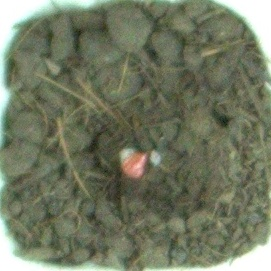chilli seed: (119, 150, 148, 179)
